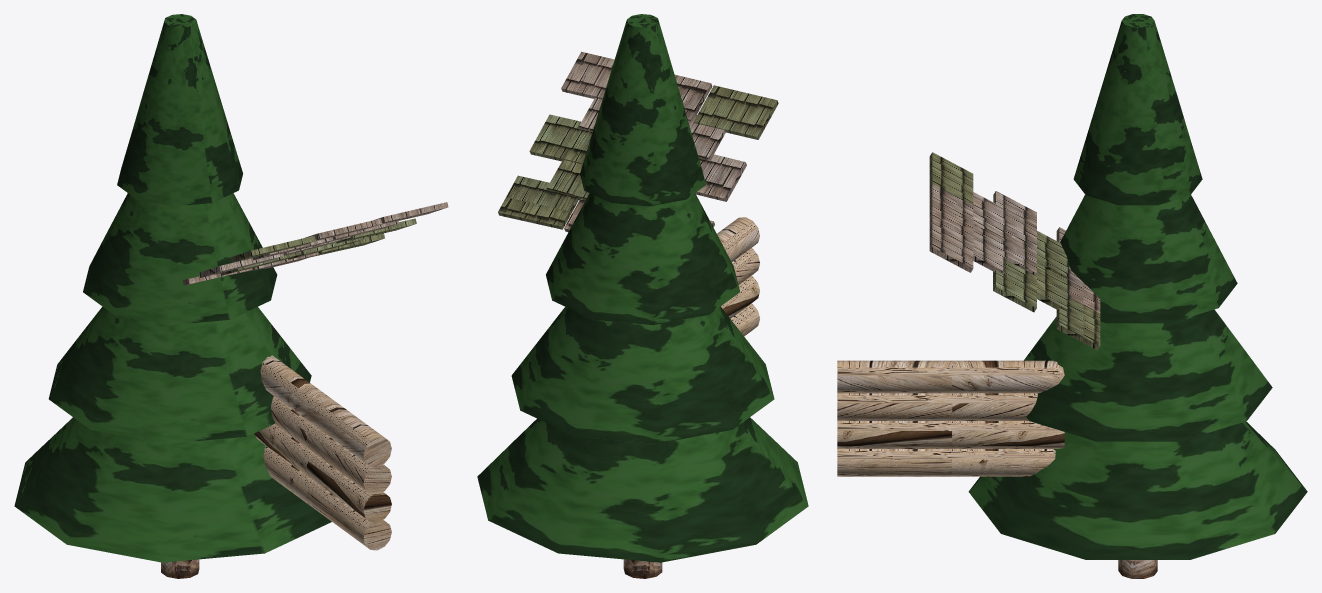
Rendered from pino.glb.
The picture shows the model from 3 angles, left to right: view 1: azimuth 30°, elevation 25°; view 2: azimuth 150°, elevation 25°; view 3: azimuth 270°, elevation 25°; orthographic projection.
Visible parts, largest first — view 1: pieza; view 2: pieza; view 3: pieza.
Boxes of the visible parts, x1,y1,x2,y2 form: pieza: (14,14,448,578); pieza: (477,14,808,578); pieza: (837,14,1307,578).
Size of the model in its own units: 3.21 by 5.55 by 4.3.
5 materials, 5 textured.
